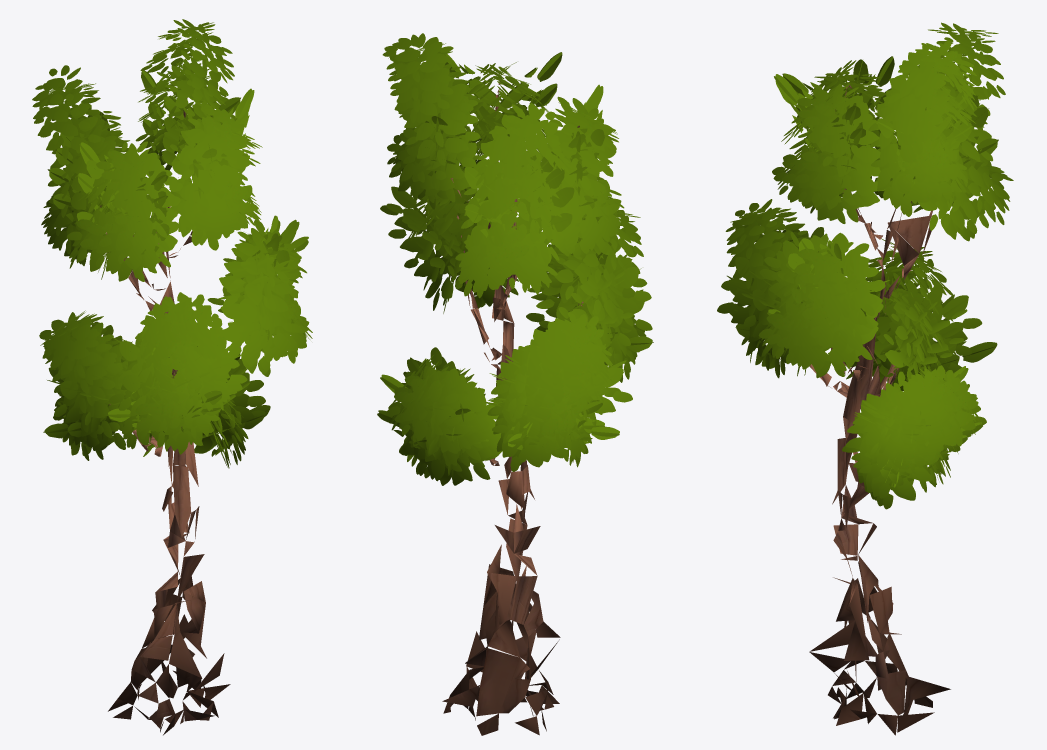
Rendered from jati-2.glb.
3 renders of one model, left to right at view 1: azimuth 30°, elevation 25°; view 2: azimuth 150°, elevation 25°; view 3: azimuth 270°, elevation 25°, orthographic. The views are drawn at different scales.
Visible parts, largest first — view 1: CommonTree_3; view 2: CommonTree_3; view 3: CommonTree_3.
Boxes of the visible parts, box(x1,y1,x2,y2) form: CommonTree_3: box(32, 19, 312, 735); CommonTree_3: box(377, 33, 653, 735); CommonTree_3: box(717, 22, 1013, 735).
Bounding box in the file's own units: 4.71 × 10.69 × 4.62.
Materials: 2 (2 with a texture image).
